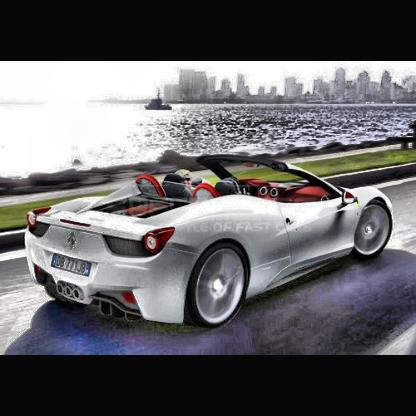Ferrari 458 Italia Convertible 2012: (26, 153, 393, 324)
